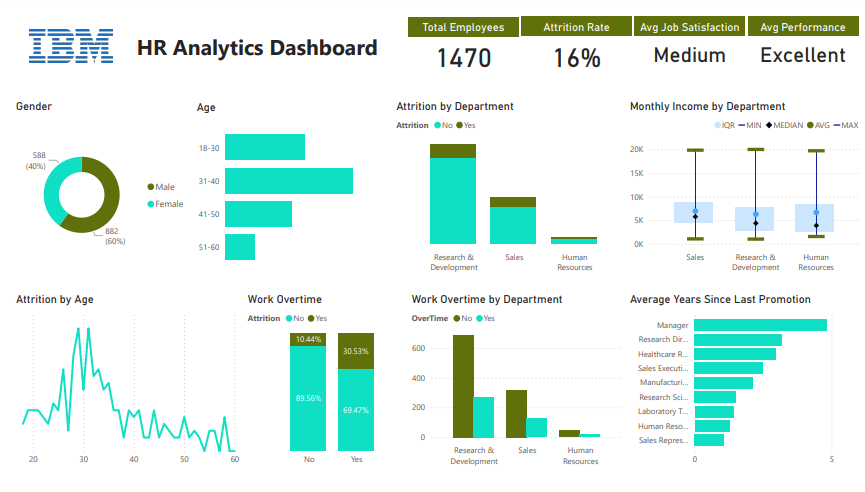

The page's visual inventory and layout, read from the dashboard file:
{"tool":"powerbi","page":{"name":"Overview","canvas":[1280,720],"ordinal":0},"visuals":[{"type":"image","box":[19.6,14.7,134.5,89.2],"z":0},{"type":"textbox","box":[180.9,34.2,389.9,72.1],"z":1000},{"type":"donutChart","title":"Gender","fields":{"Category":["hr_data.Gender"],"Y":["Sum(hr_data.EmployeeCount)"]},"box":[0.1,140.1,271.4,267.7],"z":2000},{"type":"clusteredBarChart","title":"Age","fields":{"Category":["hr_data.Age Range"],"Y":["Sum(hr_data.EmployeeCount)"]},"box":[271.4,140.6,299.5,267.7],"z":3000},{"type":"card","title":"Avg Job Satisfaction ","fields":{"Values":["hr_data.AVG_JobSatisfaction"]},"box":[934.2,16.4,166.2,86.8],"z":4000},{"type":"card","title":"Avg Performance","fields":{"Values":["hr_data.AVG_Performancerating"]},"box":[1104.1,16.4,166.2,86.8],"z":5000},{"type":"lineStackedColumnComboChart","title":"Monthly Income by Department","fields":{"Y2":["hr_data.MonthlyIncome_MIN","hr_data.MonthlyIncome_MEDIAN","hr_data.MonthlyIncome_AVG","hr_data.MonthlyIncome_MAX"],"Category":["hr_data.Department"],"Y":["hr_data.MonthlyIncome_PER25","hr_data.MonthlyIncome IQR"]},"box":[921.8,140.1,358.2,267.7],"z":6000},{"type":"card","title":"Attrition Rate","fields":{"Values":["hr_data.Turnover Rate"]},"box":[764.3,16.4,166.2,89.2],"z":7000},{"type":"card","title":"Total Employees","fields":{"Values":["Sum(hr_data.EmployeeCount)"]},"box":[593.8,16.9,166.2,89.2],"z":8000},{"type":"columnChart","title":"Attrition by Department","fields":{"Category":["hr_data.Department"],"Y":["Sum(hr_data.EmployeeCount)"],"Series":["hr_data.Attrition Yes No"]},"box":[571,140.1,350.8,267.7],"z":9000},{"type":"lineChart","title":"Attrition by Age","fields":{"Category":["hr_data.Age"],"Y":["Sum(hr_data.Attrition)"]},"box":[0,430.3,348.4,267.7],"z":10000},{"type":"hundredPercentStackedColumnChart","title":"Work Overtime","fields":{"Category":["hr_data.OverTime"],"Series":["hr_data.Attrition Yes No"],"Y":["Sum(hr_data.EmployeeCount)"]},"box":[348.4,430.3,265.3,267.7],"z":11000},{"type":"barChart","title":"Average Years Since Last Promotion","fields":{"Y":["Avg(hr_data.YearsSinceLastPromotion)"],"Category":["hr_data.JobRole"]},"box":[921.7,430.3,358.2,267.7],"z":12000},{"type":"clusteredColumnChart","title":"Work Overtime by Department","fields":{"Category":["hr_data.Department"],"Y":["Sum(hr_data.EmployeeCount)"],"Series":["hr_data.OverTime"]},"box":[594.1,430.3,327.6,267.7],"z":13000}]}

Visuals, with their boxes in screenshot pixels (x1, y1, x2, y2), scaled from the page's 1280x720 canvas onto the 865x492 screenshot:
image: rect(13, 10, 104, 71)
textbox: rect(122, 23, 386, 73)
"Gender" donutChart: rect(0, 96, 183, 279)
"Age" clusteredBarChart: rect(183, 96, 386, 279)
"Avg Job Satisfaction " card: rect(631, 11, 744, 71)
"Avg Performance" card: rect(746, 11, 858, 71)
"Monthly Income by Department" lineStackedColumnComboChart: rect(623, 96, 864, 279)
"Attrition Rate" card: rect(516, 11, 629, 72)
"Total Employees" card: rect(401, 12, 514, 73)
"Attrition by Department" columnChart: rect(386, 96, 623, 279)
"Attrition by Age" lineChart: rect(0, 294, 235, 477)
"Work Overtime" hundredPercentStackedColumnChart: rect(235, 294, 415, 477)
"Average Years Since Last Promotion" barChart: rect(623, 294, 864, 477)
"Work Overtime by Department" clusteredColumnChart: rect(401, 294, 623, 477)
